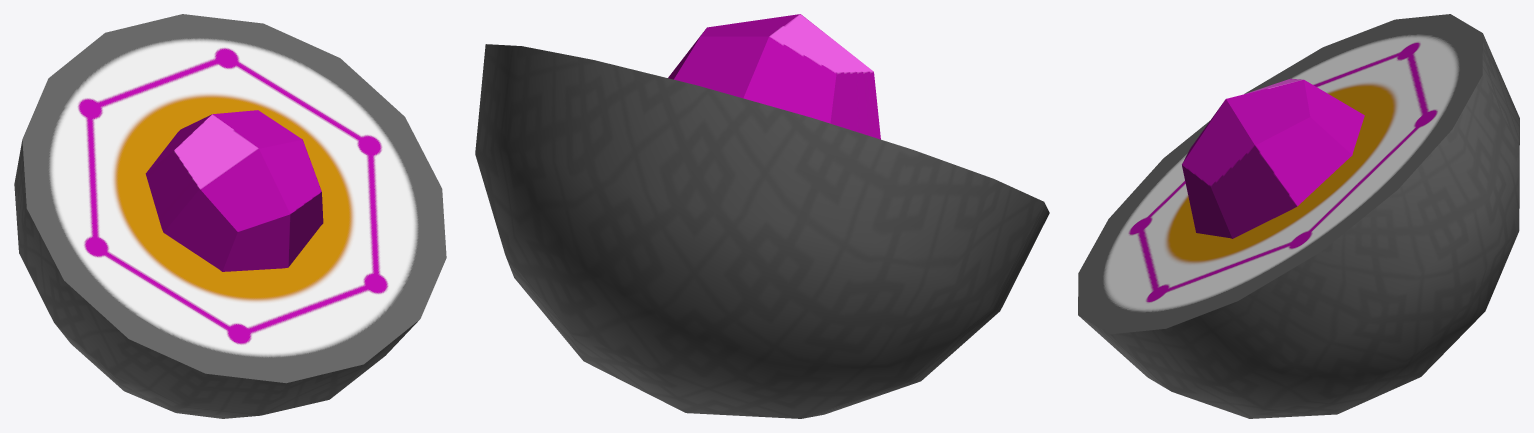
File: Valuable_Geode.fbx
3 renders of one model, left to right at view 1: azimuth 30°, elevation 25°; view 2: azimuth 150°, elevation 25°; view 3: azimuth 270°, elevation 25°, orthographic. The views are drawn at different scales.
Visible parts, largest first — view 1: Items001; view 2: Items001; view 3: Items001.
Boxes of the visible parts, x1,y1,x2,y2 form: Items001: (14,14,446,418); Items001: (475,14,1049,418); Items001: (1078,14,1519,418).
Bounding box in the file's own units: 13.56 × 10.5 × 12.37.
1 material, 1 textured.
